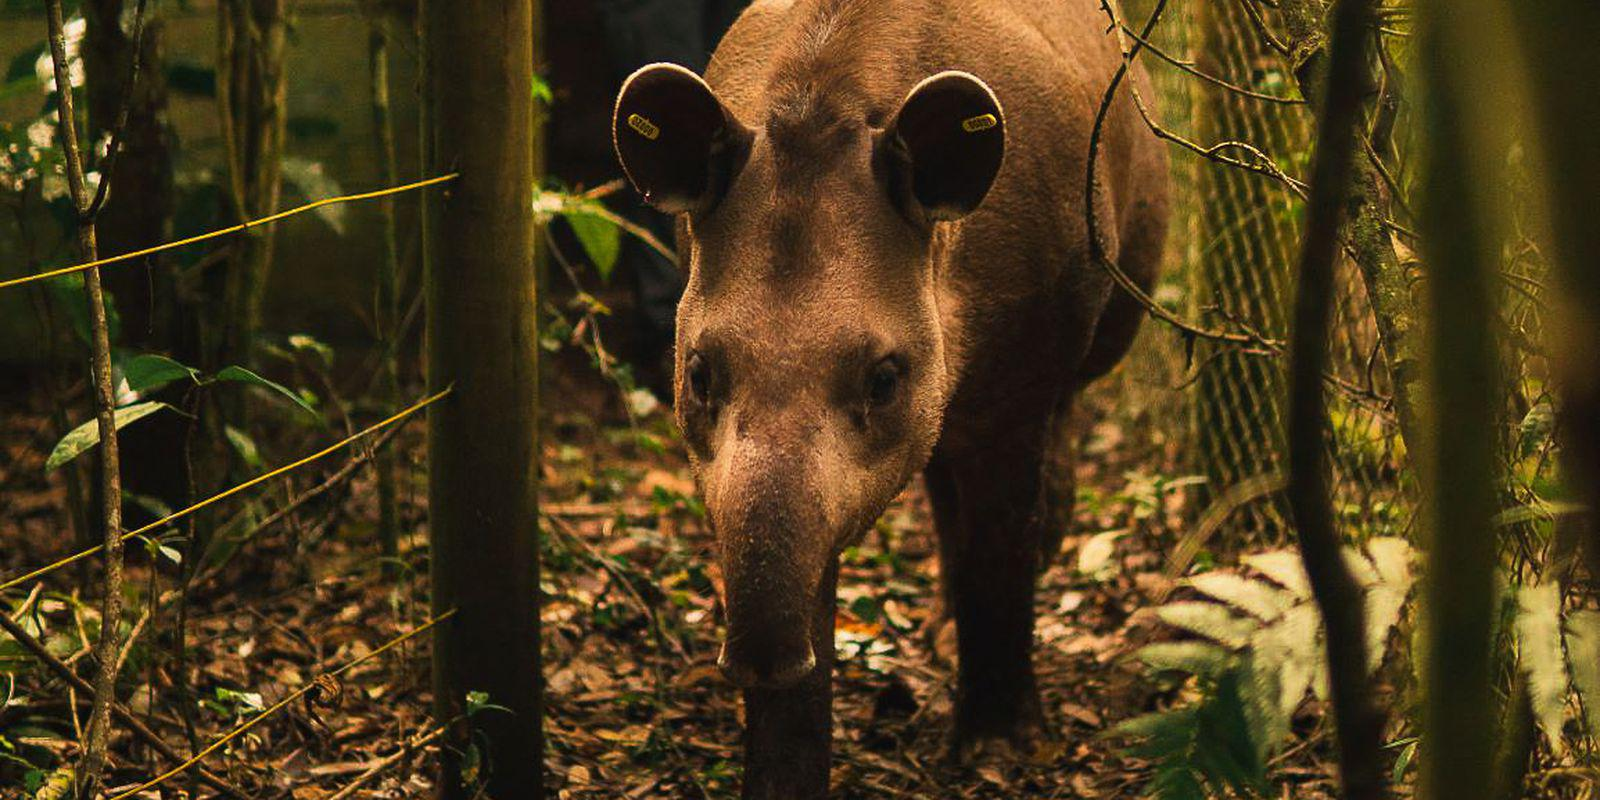Anta: (530, 7, 1199, 766)
